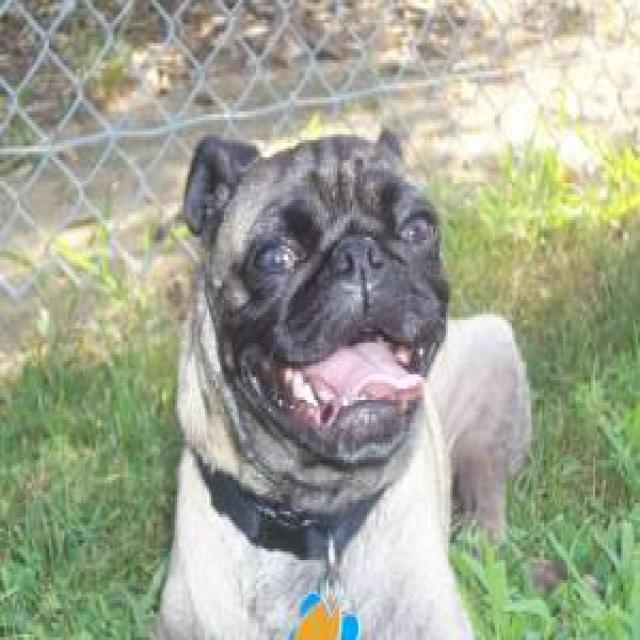dog-pug: (154, 129, 535, 634)
